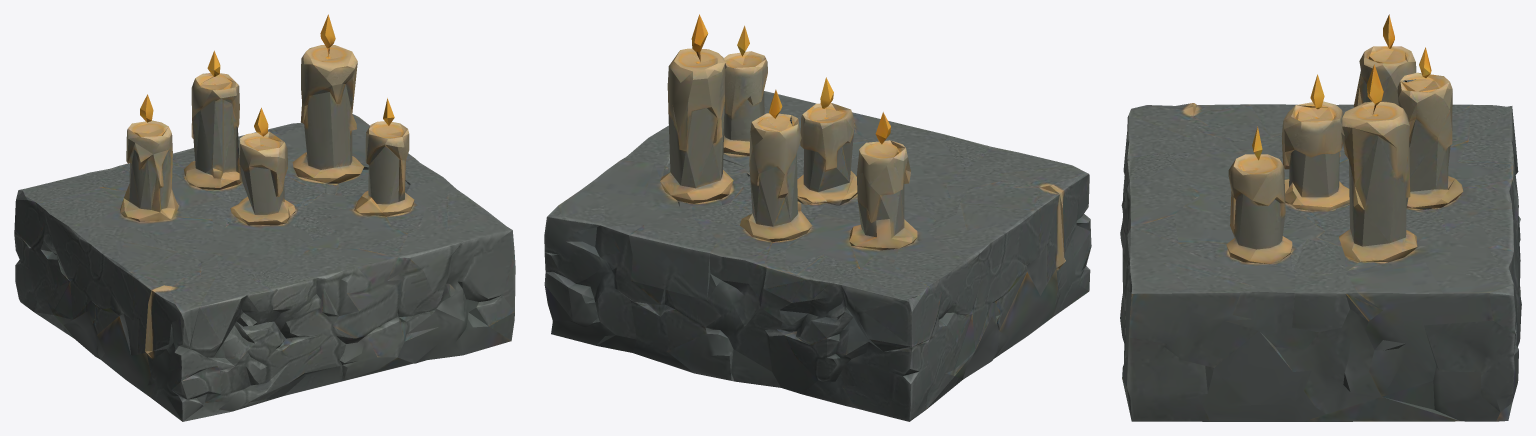
The model's file is candles-stone.glb.
3 views of the same model, side by side, from view 1: azimuth 30°, elevation 25°; view 2: azimuth 150°, elevation 25°; view 3: azimuth 270°, elevation 25° (orthographic). The views are drawn at different scales.
Visible parts, largest first — view 1: output_unwrapped; view 2: output_unwrapped; view 3: output_unwrapped.
Part boxes in pixels (box(x1,y1,x2,y2)): output_unwrapped: box(14, 14, 515, 421); output_unwrapped: box(544, 14, 1091, 421); output_unwrapped: box(1120, 14, 1521, 421).
Bounding box in the file's own units: 1.9 × 1.43 × 1.67.
1 material, 1 textured.
